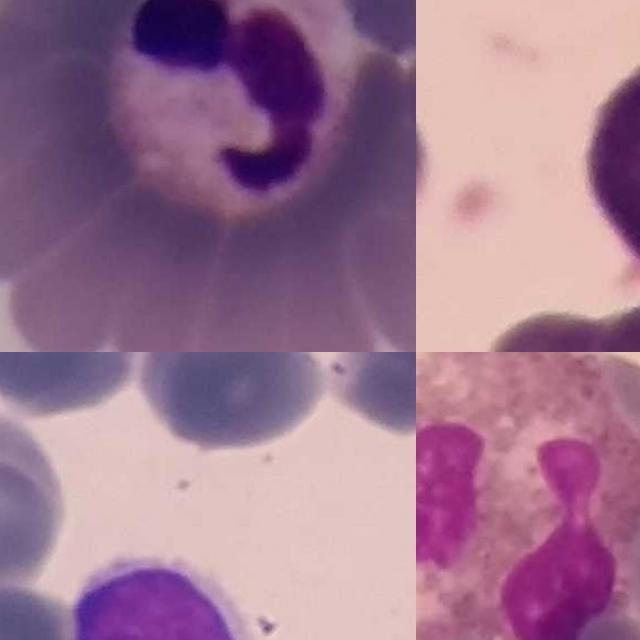Eosinophil: (416, 352, 640, 640), (577, 38, 640, 268)
Lymphocyte: (71, 555, 260, 640)
Neutrophil: (117, 0, 357, 216)
